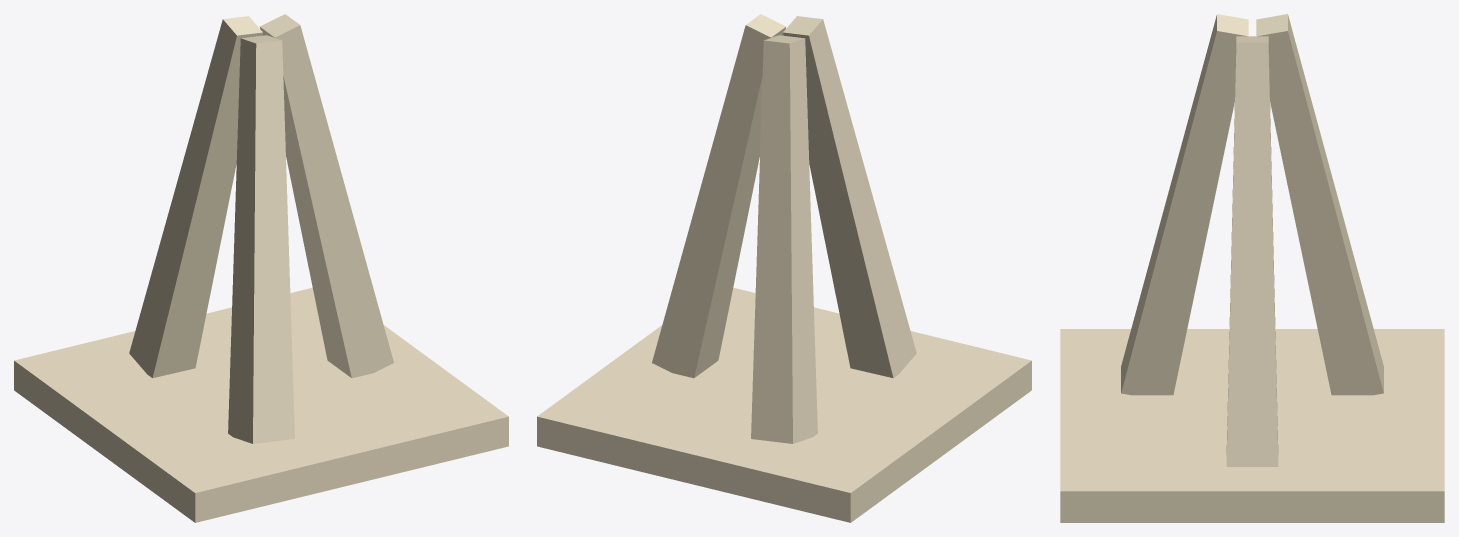
File: peoples-heroes-monument.glb
3 renders of one model, left to right at view 1: azimuth 30°, elevation 25°; view 2: azimuth 150°, elevation 25°; view 3: azimuth 270°, elevation 25°, orthographic. The views are drawn at different scales.
Visible parts, largest first — view 1: peoples-heroes-monument; view 2: peoples-heroes-monument; view 3: peoples-heroes-monument.
Boxes of the visible parts, x1,y1,x2,y2 form: peoples-heroes-monument: (14,14,508,522); peoples-heroes-monument: (537,14,1031,522); peoples-heroes-monument: (1060,14,1444,522).
Size of the model in its own units: 22 by 26.29 by 22.
